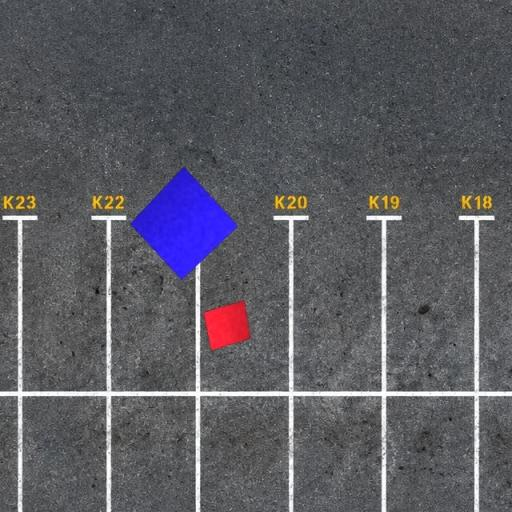BLUE_SQUARE: (130, 166, 238, 280)
RED_SQUARE: (202, 300, 252, 352)
